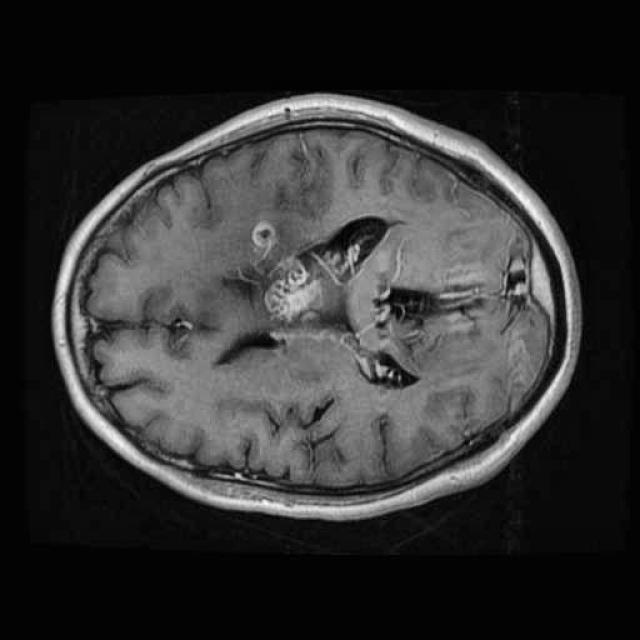Non-Tumor: (231, 204, 356, 340)
